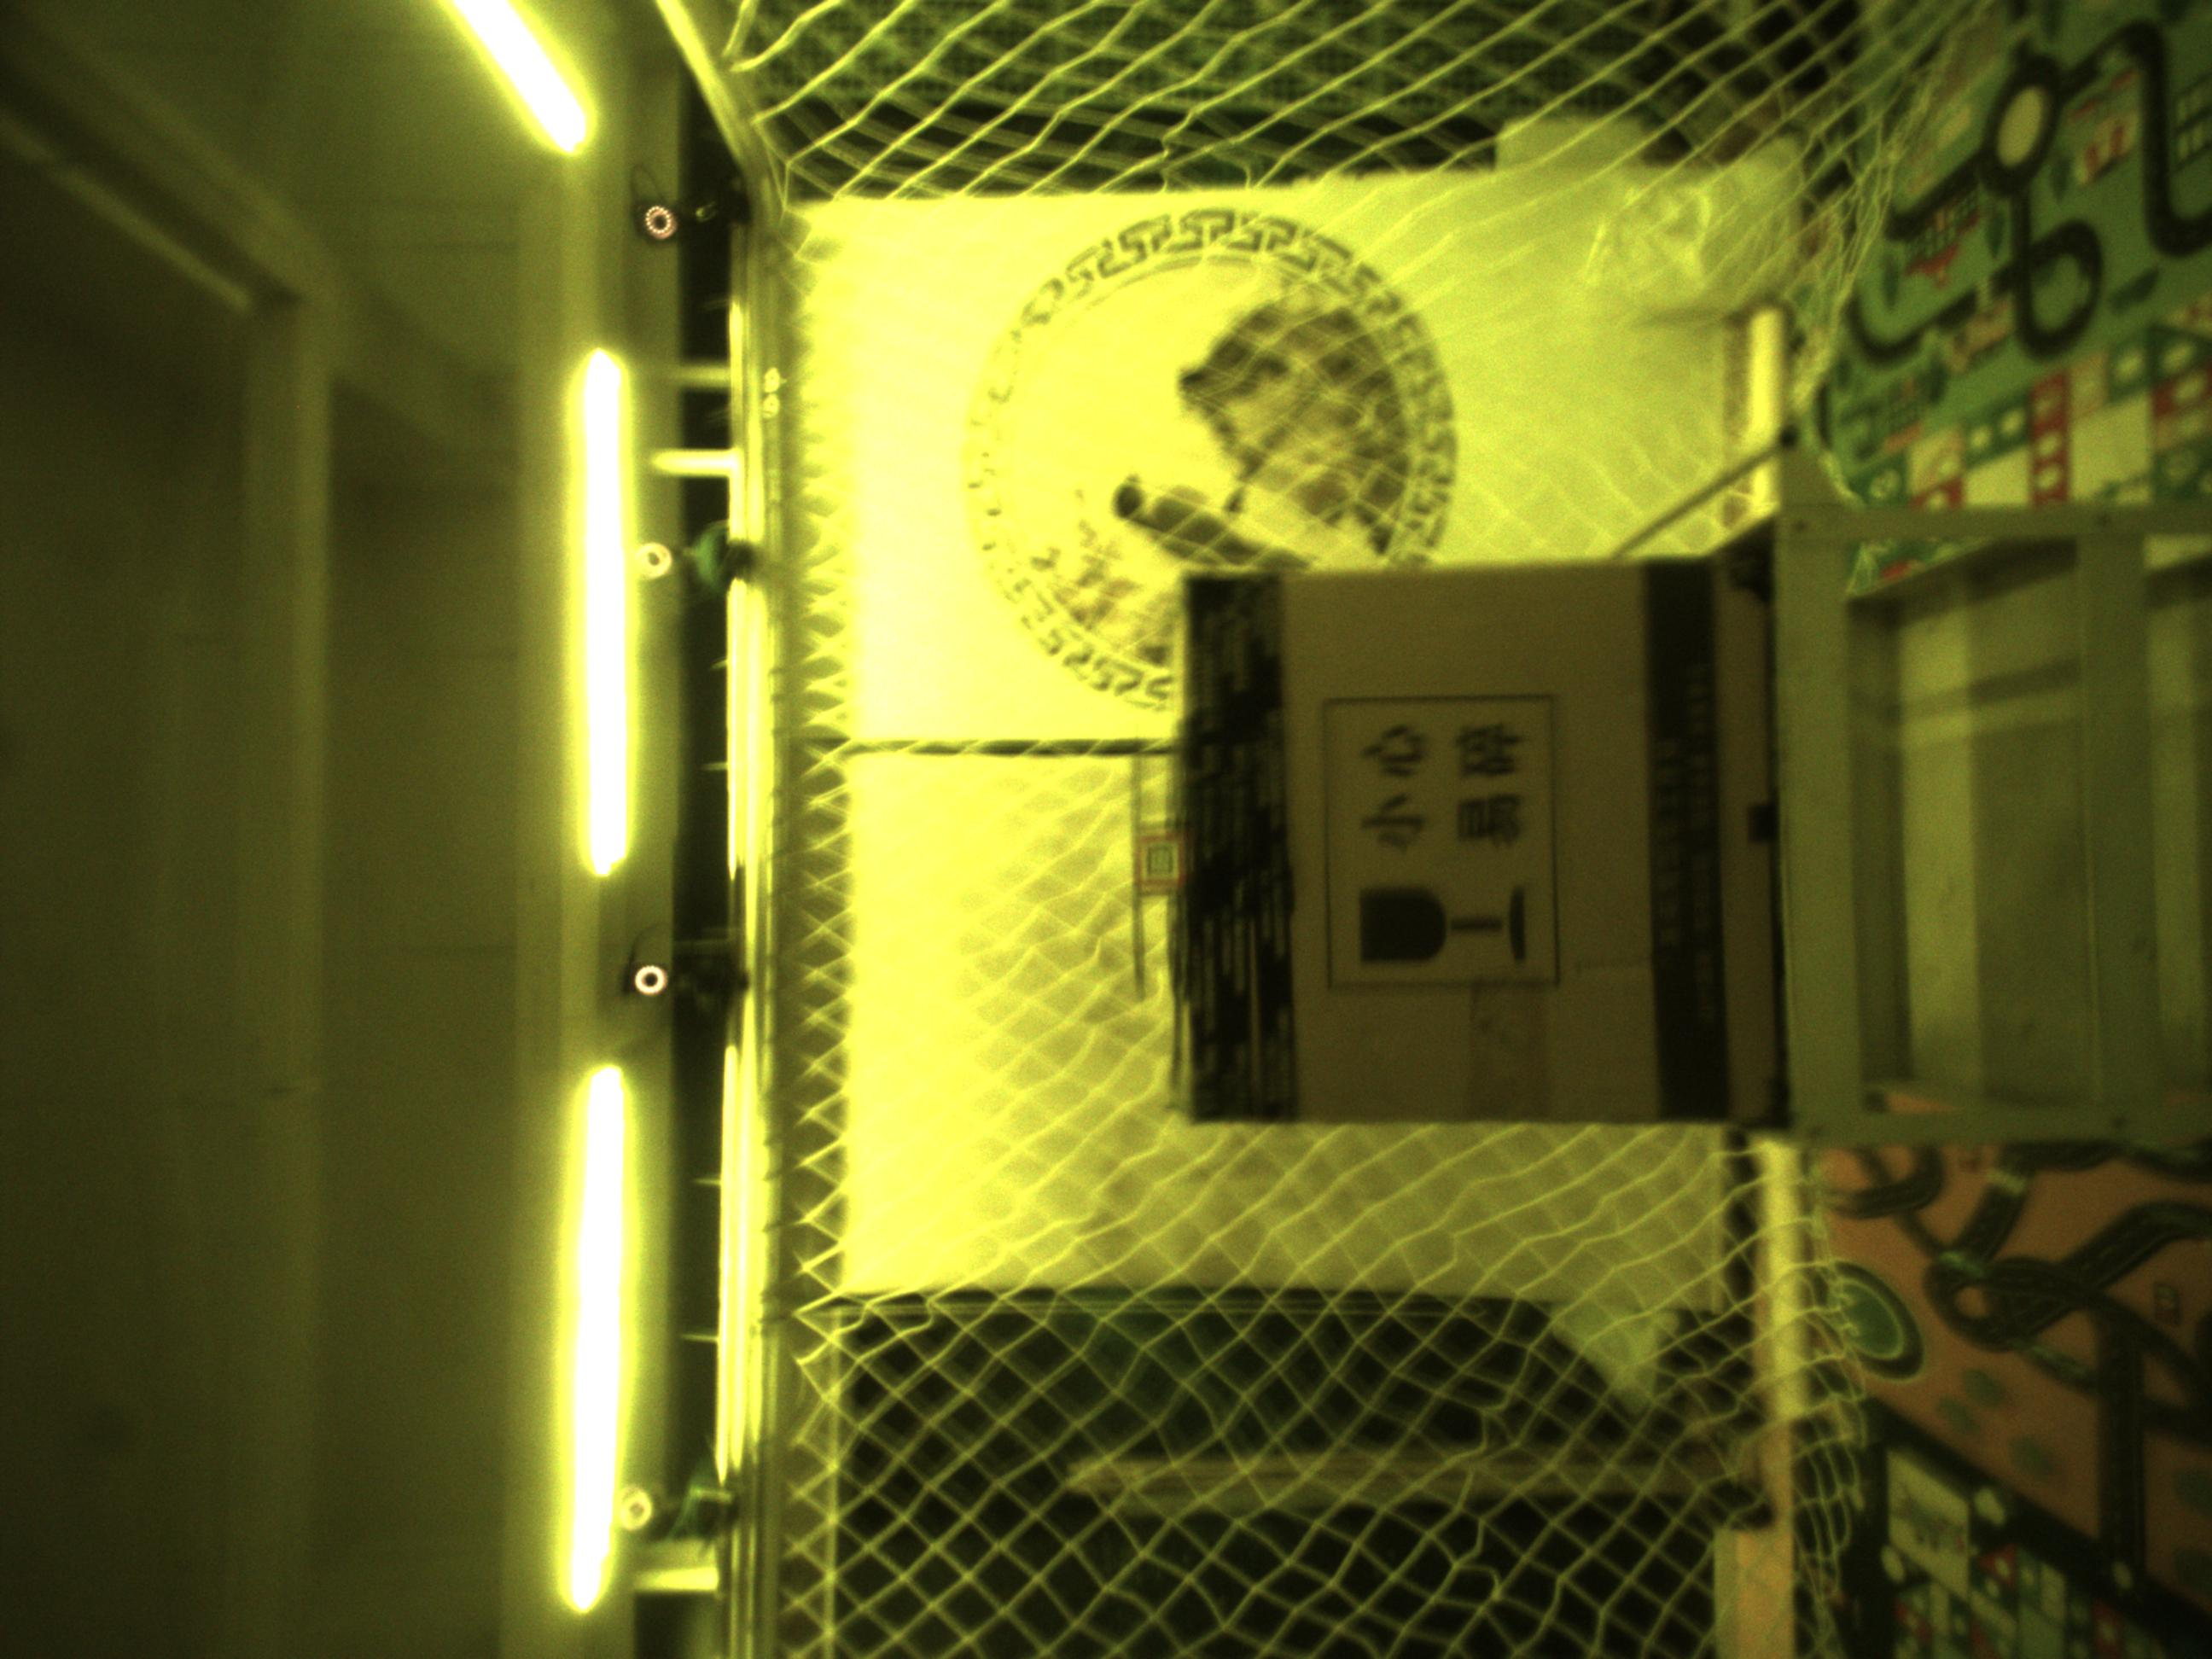outline: (1136, 835, 1186, 885)
